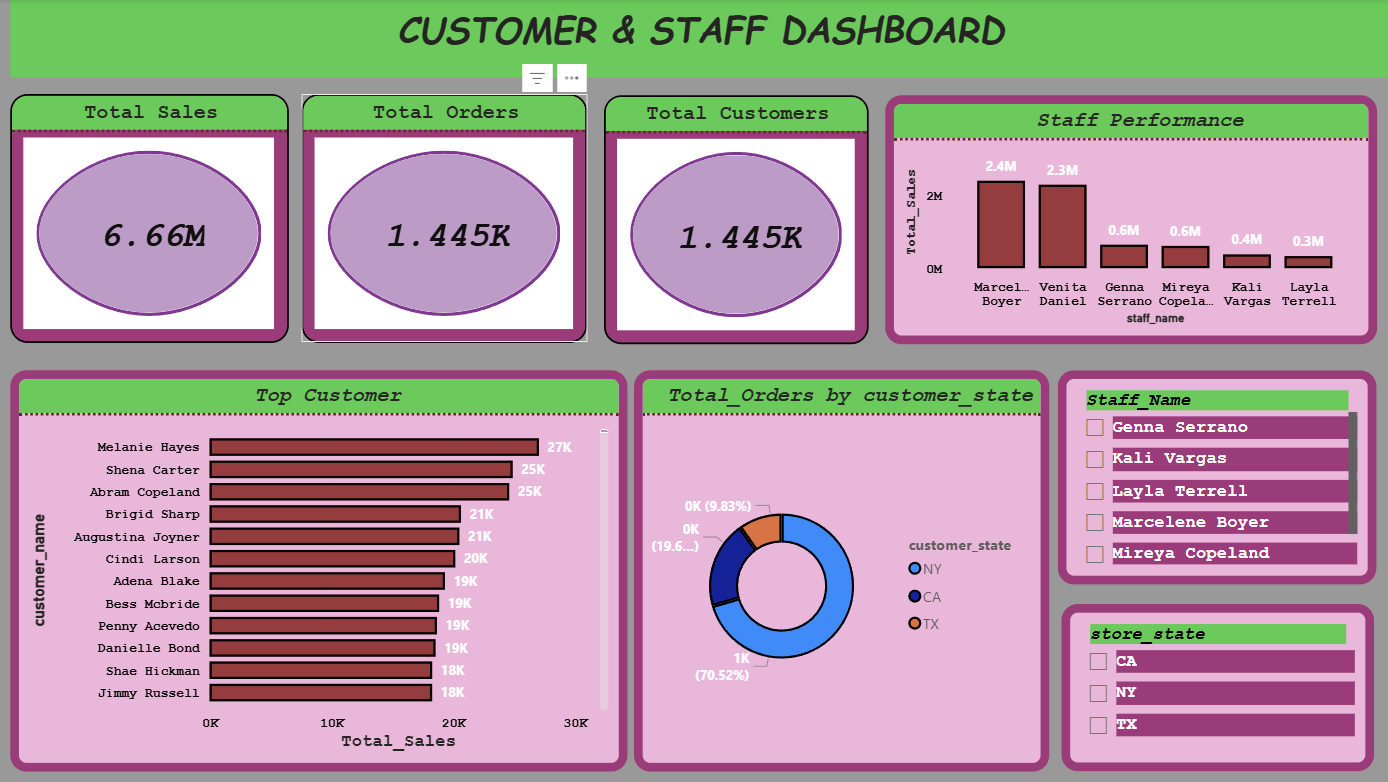

Layout of this report page (visuals, bound fields, positions):
{"tool":"powerbi","page":{"name":"CUSTOMER & STAFF DASHBOARD","canvas":[1280,720],"ordinal":2},"visuals":[{"type":"textbox","box":[10.5,0,1269.8,72.1],"z":0},{"type":"clusteredBarChart","title":"Top Customer","fields":{"Category":["customer_summary1.customer_name"],"Y":["customer_summary1.Total_Sales"]},"box":[10.5,340.7,567.4,368.6],"z":1},{"type":"cardVisual","title":"Total Sales","fields":{"Data":["customer_summary1.Total_Sales"]},"box":[10.5,87.2,255.8,229.1],"z":2},{"type":"cardVisual","title":"Total Orders","fields":{"Data":["customer_summary1.Total_Orders"]},"box":[277.9,87.2,262.8,229.1],"z":3},{"type":"cardVisual","title":"Total Customers","fields":{"Data":["customer_summary1.Total_Customers"]},"box":[555.8,88.4,243,229.1],"z":4},{"type":"clusteredColumnChart","title":"Staff Performance","fields":{"Category":["customer_summary1.staff_name"],"Y":["customer_summary1.Total_Sales"]},"box":[814,88.4,452.3,229.1],"z":5},{"type":"donutChart","fields":{"Category":["customer_summary1.customer_state"],"Y":["customer_summary1.Total_Orders"]},"box":[583.7,340.7,381.4,368.6],"z":6},{"type":"slicer","fields":{"Values":["customer_summary1.staff_name"]},"box":[973.3,340.7,293,196.5],"z":7},{"type":"slicer","fields":{"Values":["customer_summary1.store_state"]},"box":[976.7,555.8,287.2,153.5],"z":8}]}

Visuals, with their boxes in screenshot pixels (x1, y1, x2, y2), scaled from the page's 1280x720 canvas onto the 1388x782 screenshot:
textbox: region(11, 0, 1387, 78)
"Top Customer" clusteredBarChart: region(11, 370, 627, 770)
"Total Sales" cardVisual: region(11, 95, 289, 344)
"Total Orders" cardVisual: region(301, 95, 586, 344)
"Total Customers" cardVisual: region(603, 96, 866, 345)
"Staff Performance" clusteredColumnChart: region(883, 96, 1373, 345)
donutChart - customer_summary1.customer_state x customer_summary1.Total_Orders: region(633, 370, 1047, 770)
slicer - customer_summary1.staff_name: region(1055, 370, 1373, 583)
slicer - customer_summary1.store_state: region(1059, 604, 1371, 770)
